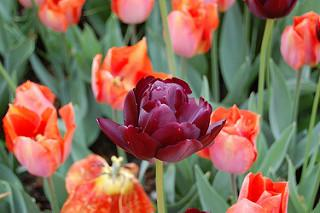tulip: (97, 76, 227, 163)
